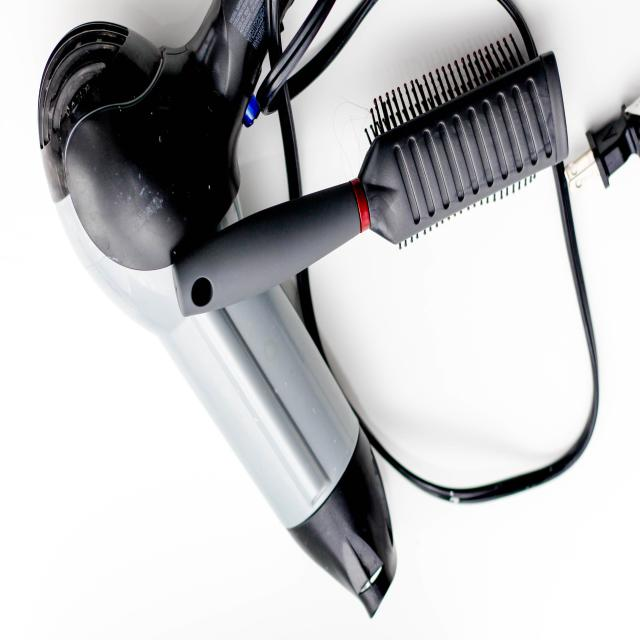dryer: (36, 0, 399, 622)
